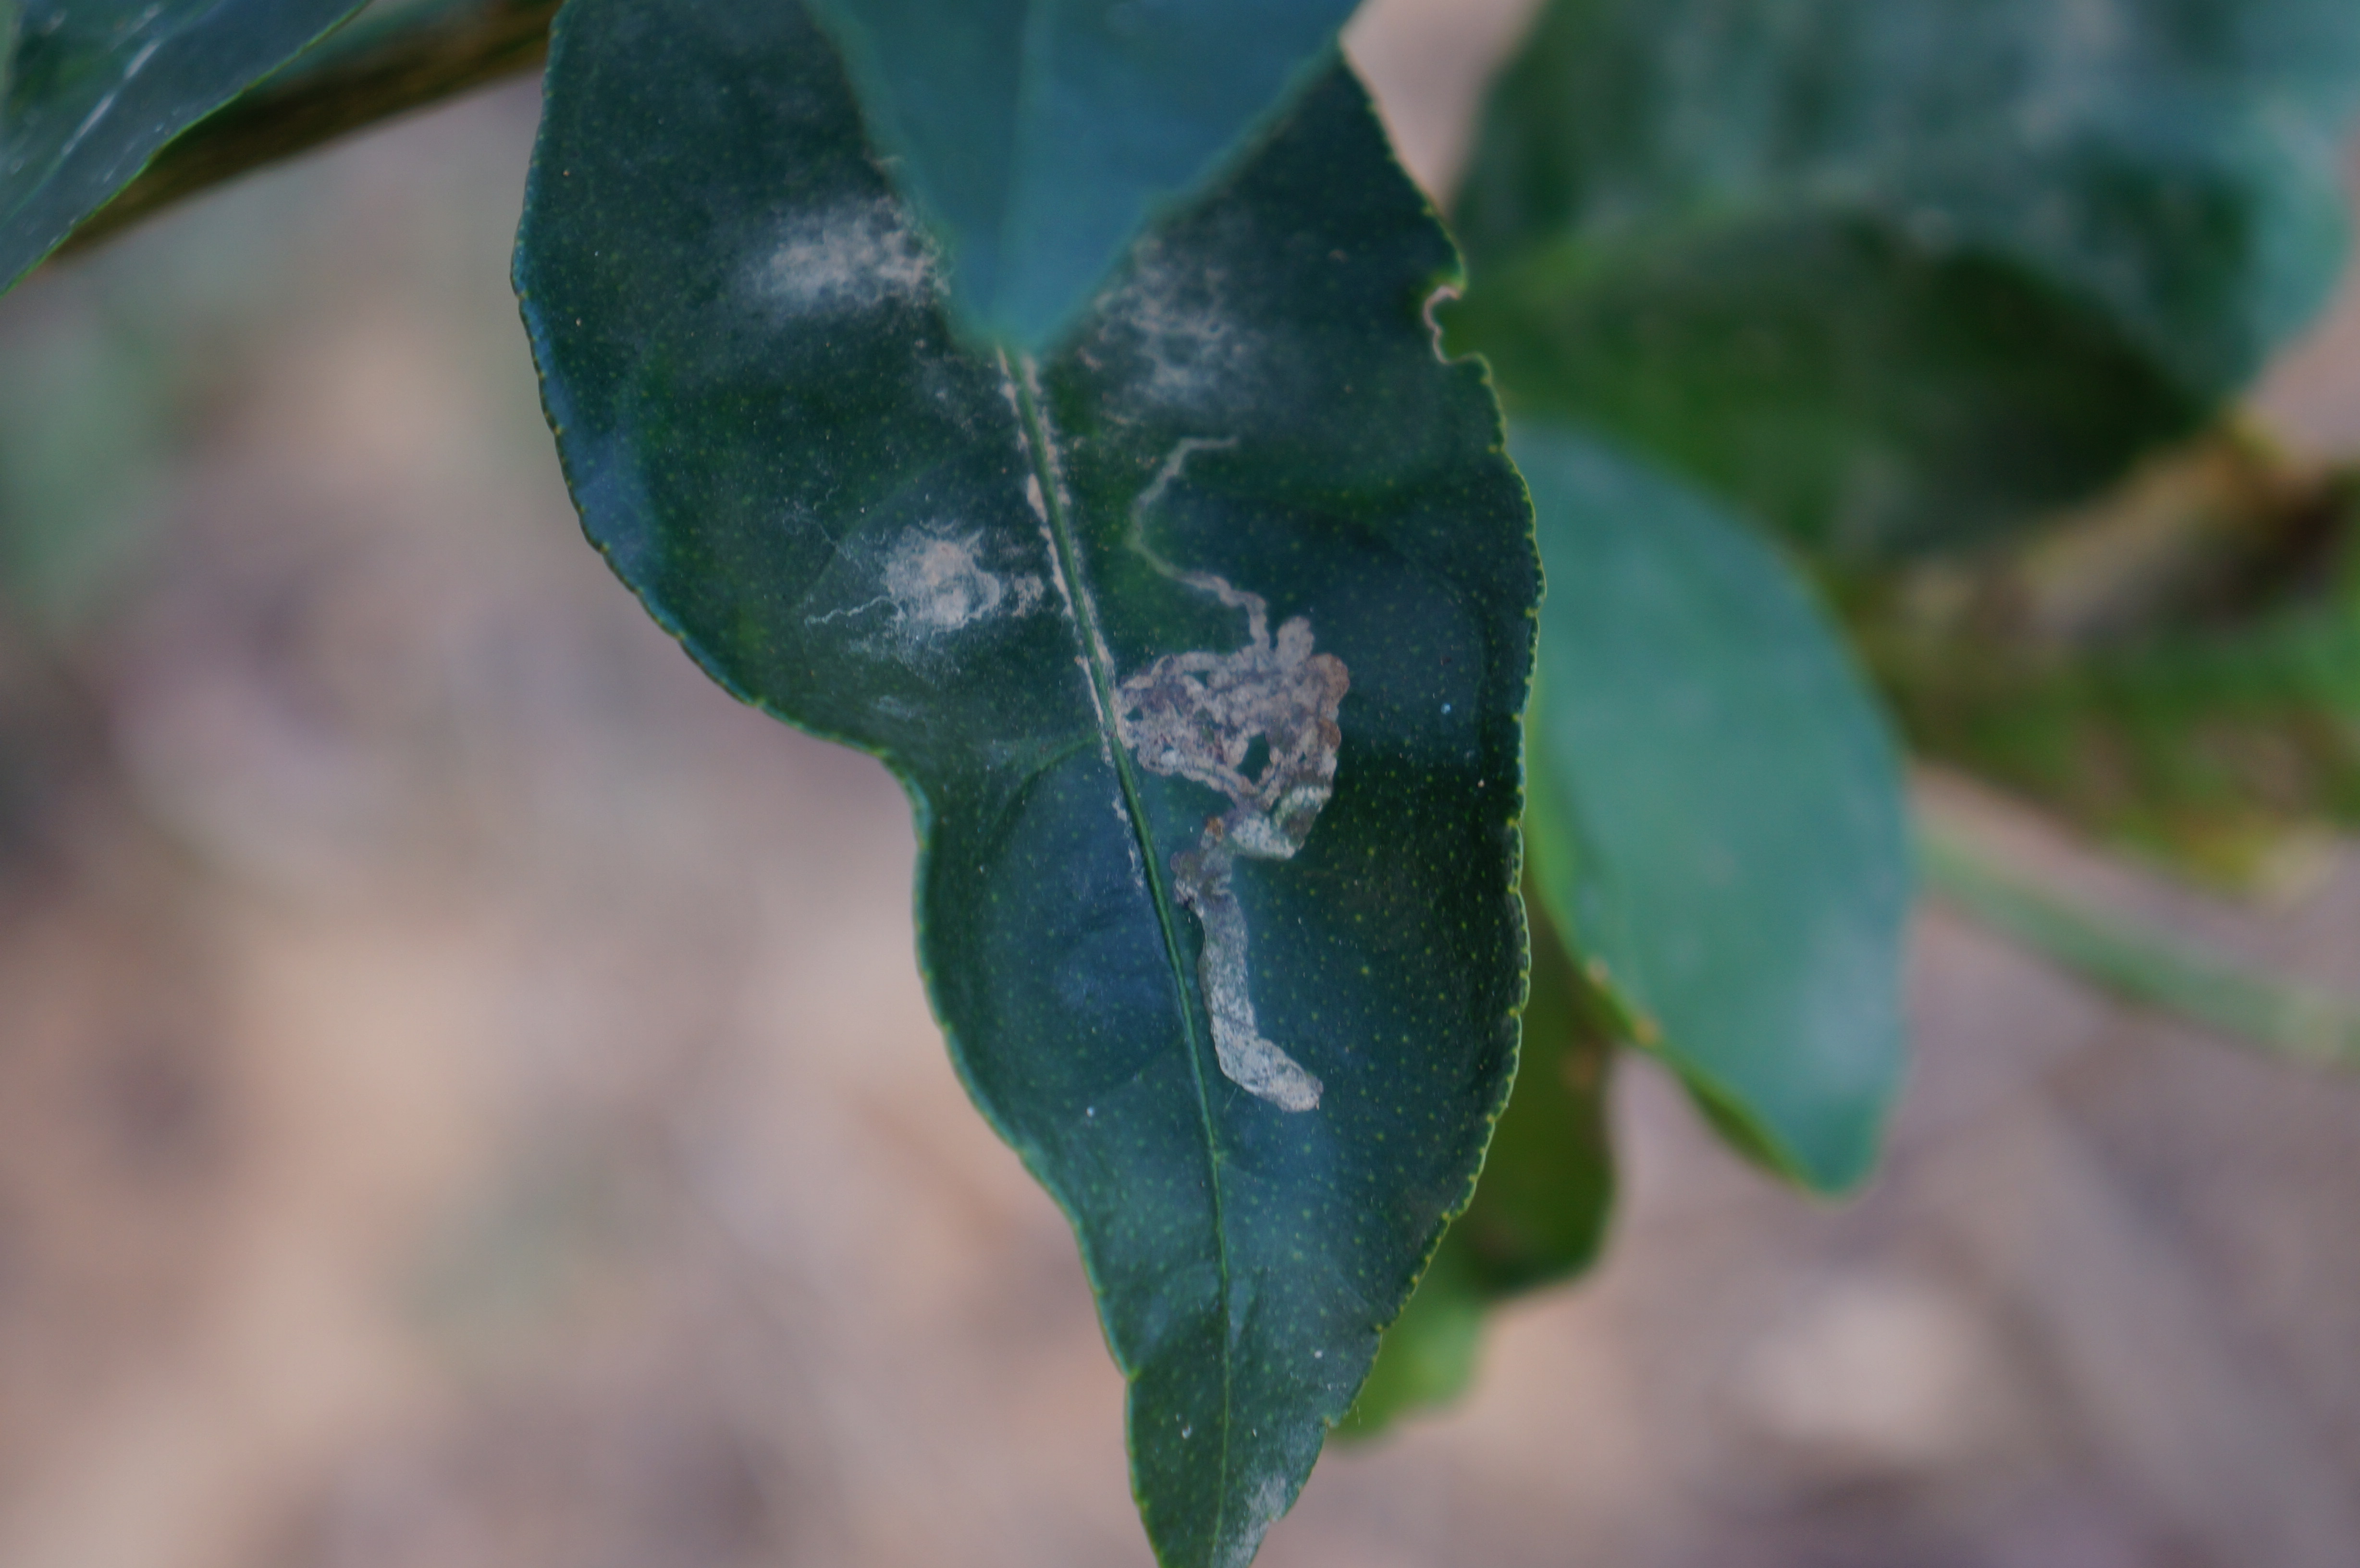damage: (1053, 425, 1379, 1141)
